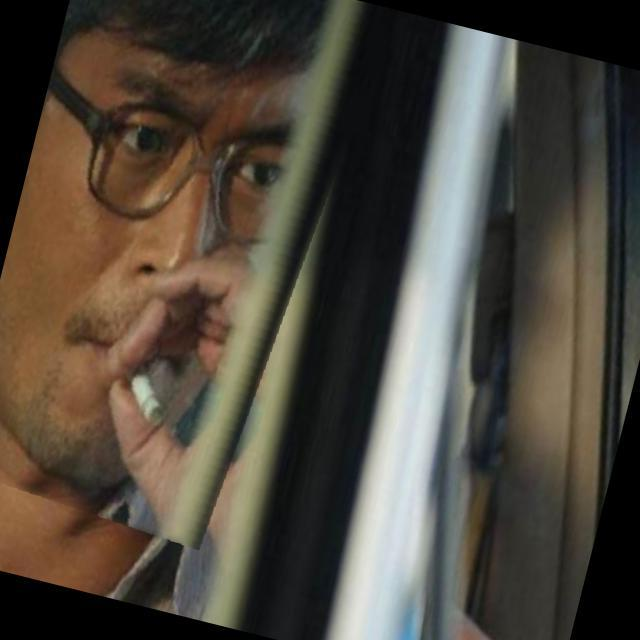cigarette: (146, 352, 234, 458)
